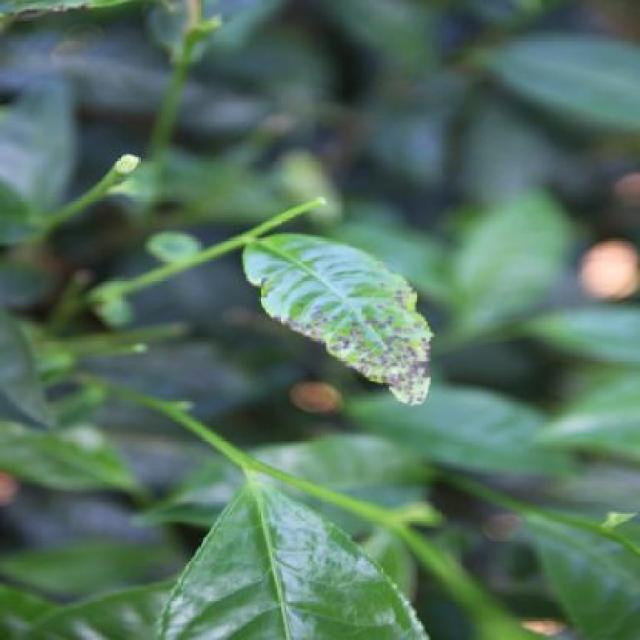Tea Mosquito bug infested leaf: (208, 222, 434, 404)
